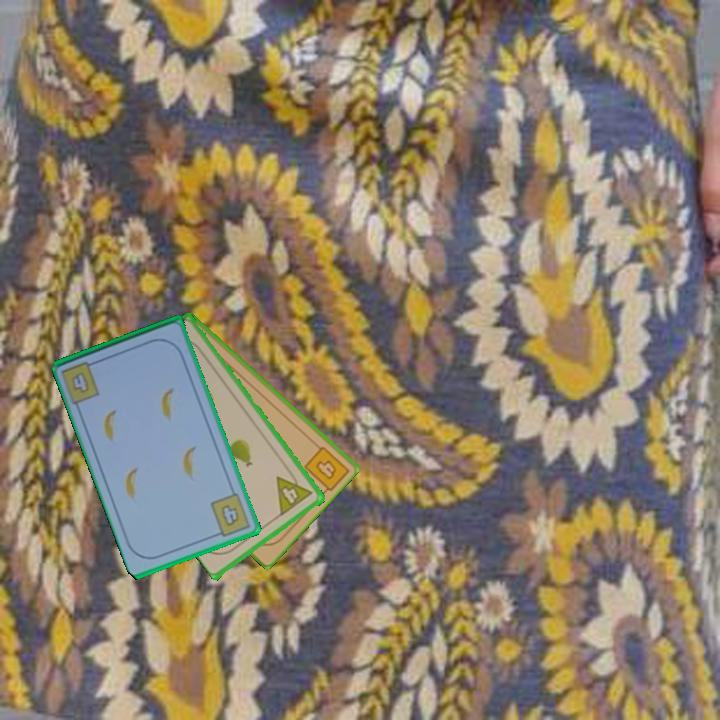4b: (207, 489, 253, 540), (312, 456, 340, 483), (68, 368, 93, 397)
4p: (273, 466, 316, 518)
